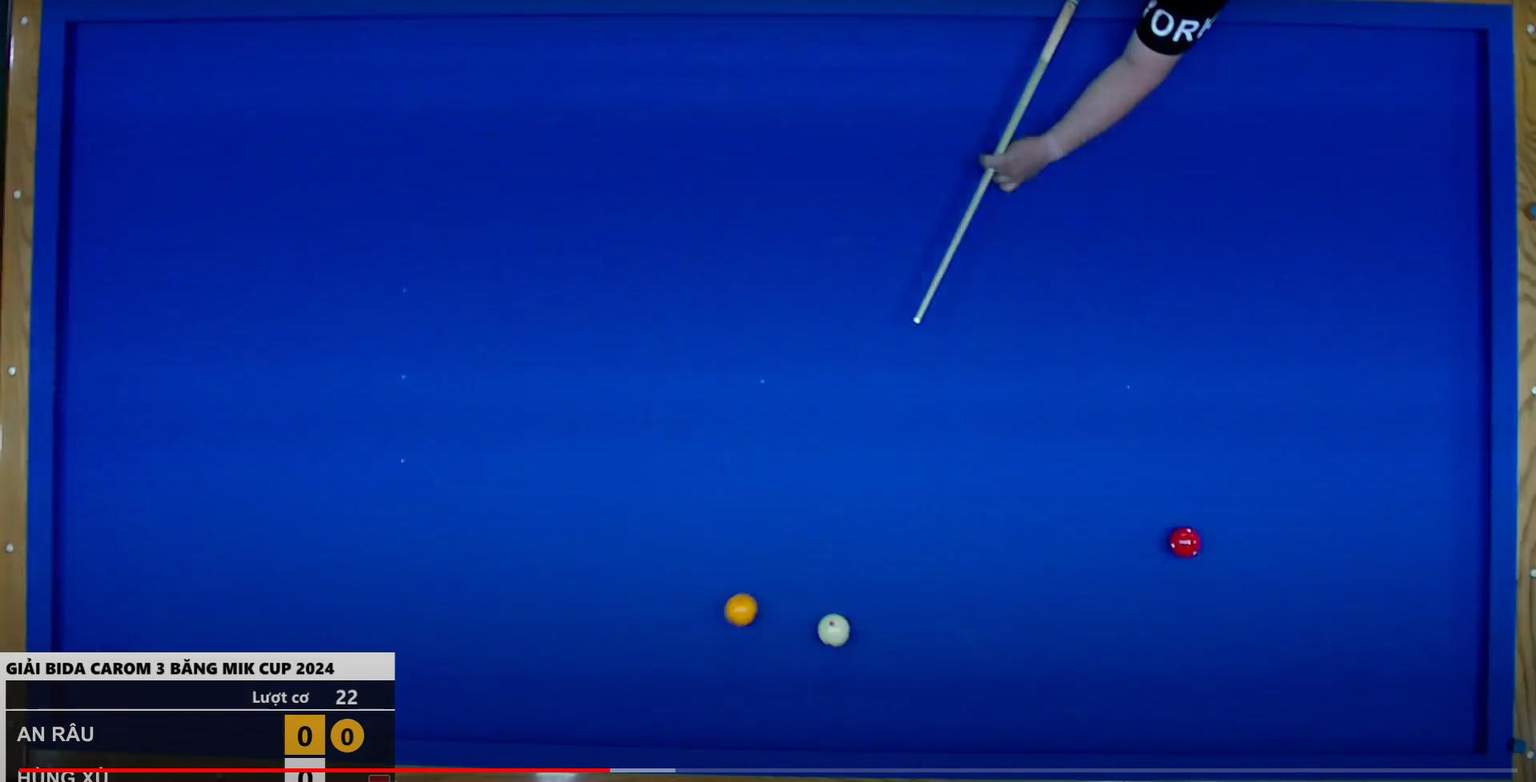red ball: (1161, 518, 1212, 567)
white ball: (810, 608, 862, 652)
yellow ball: (717, 592, 765, 632)
